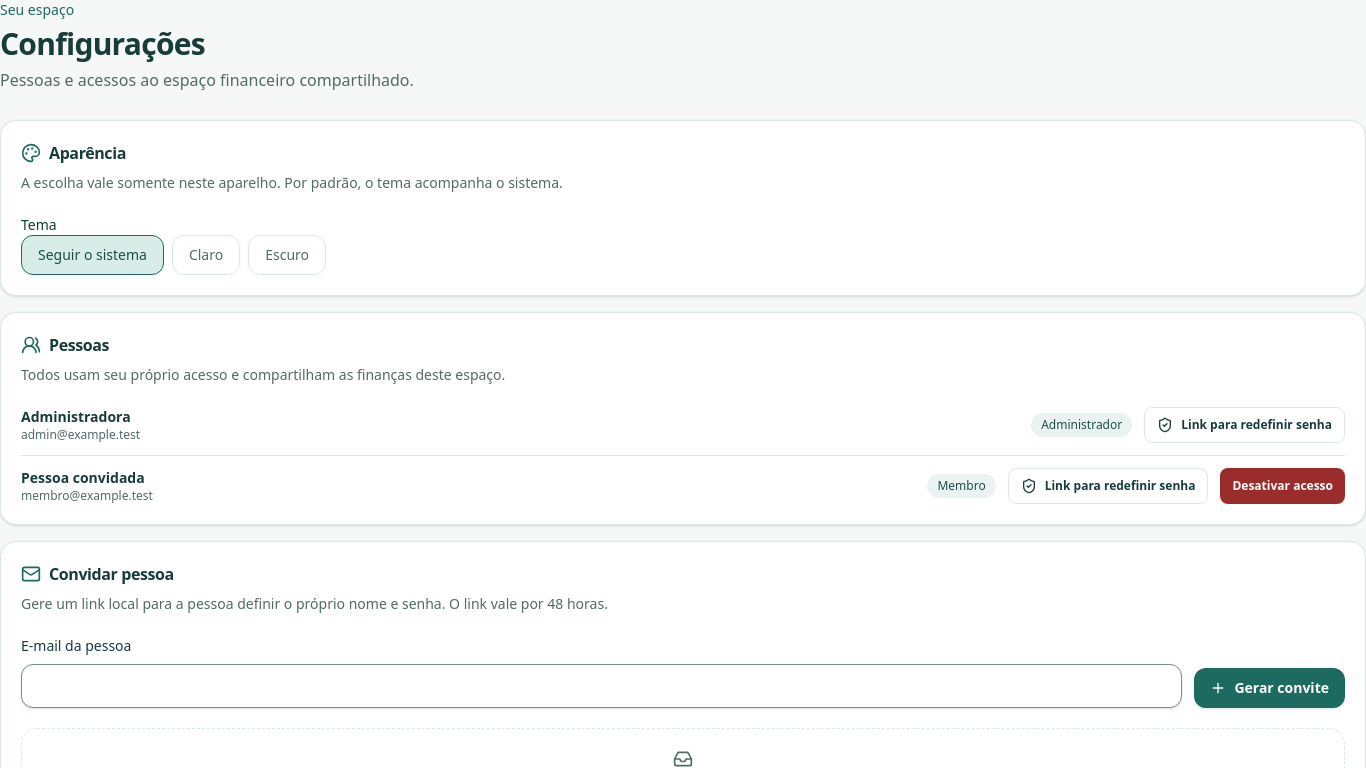
it: member settings › allows an administrator to deactivate a member after confirmation
The image size is (1366, 768).
Click the button with aria-label "Desativar acesso de Pessoa convidada". click: point(1283, 486)
box: [1220,468,1345,504]
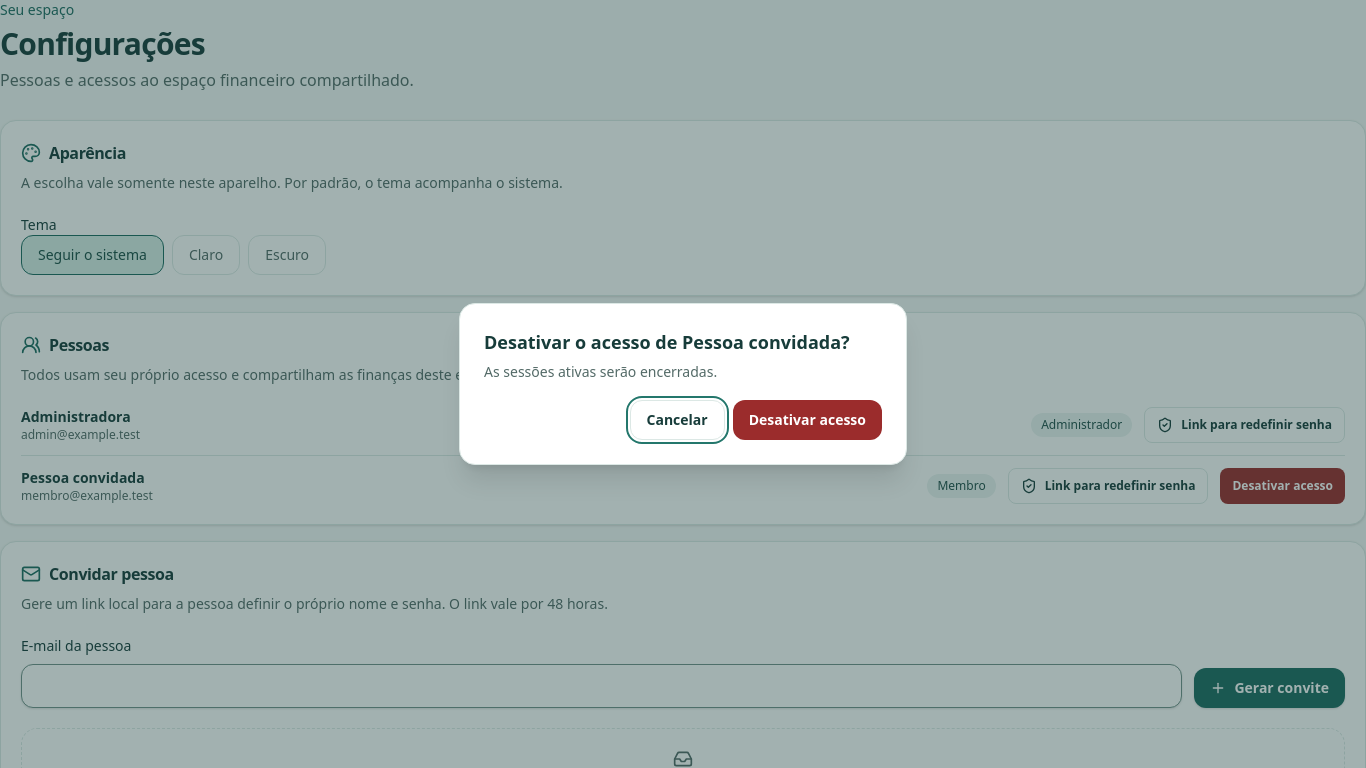
Click the button "Desativar acesso". click: point(807, 420)
box: [733,400,882,440]
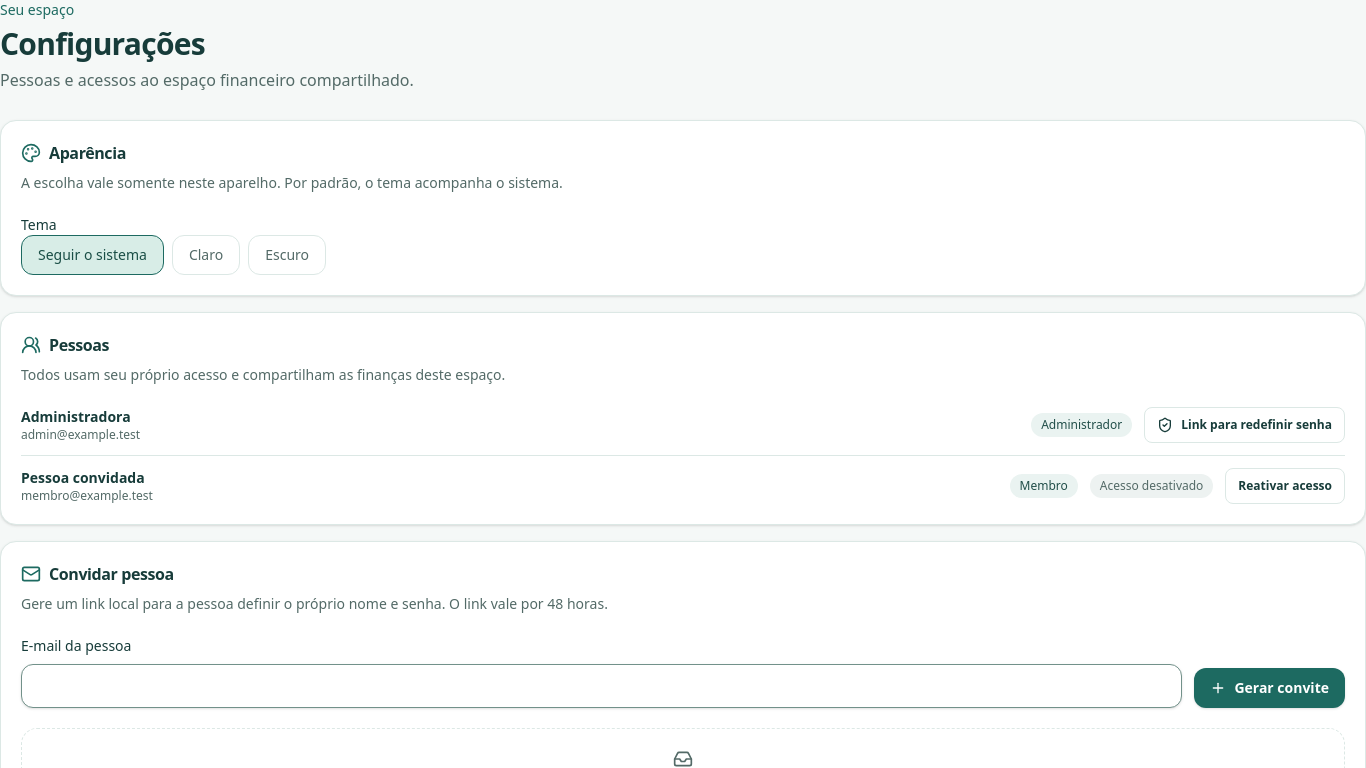
Check: the text "Acesso desativado" is shown, box [1090,474,1213,498]
Click the button with aria-label "Reativar acesso de Pessoa convidada". click: point(1285, 486)
box: [1225,468,1345,504]
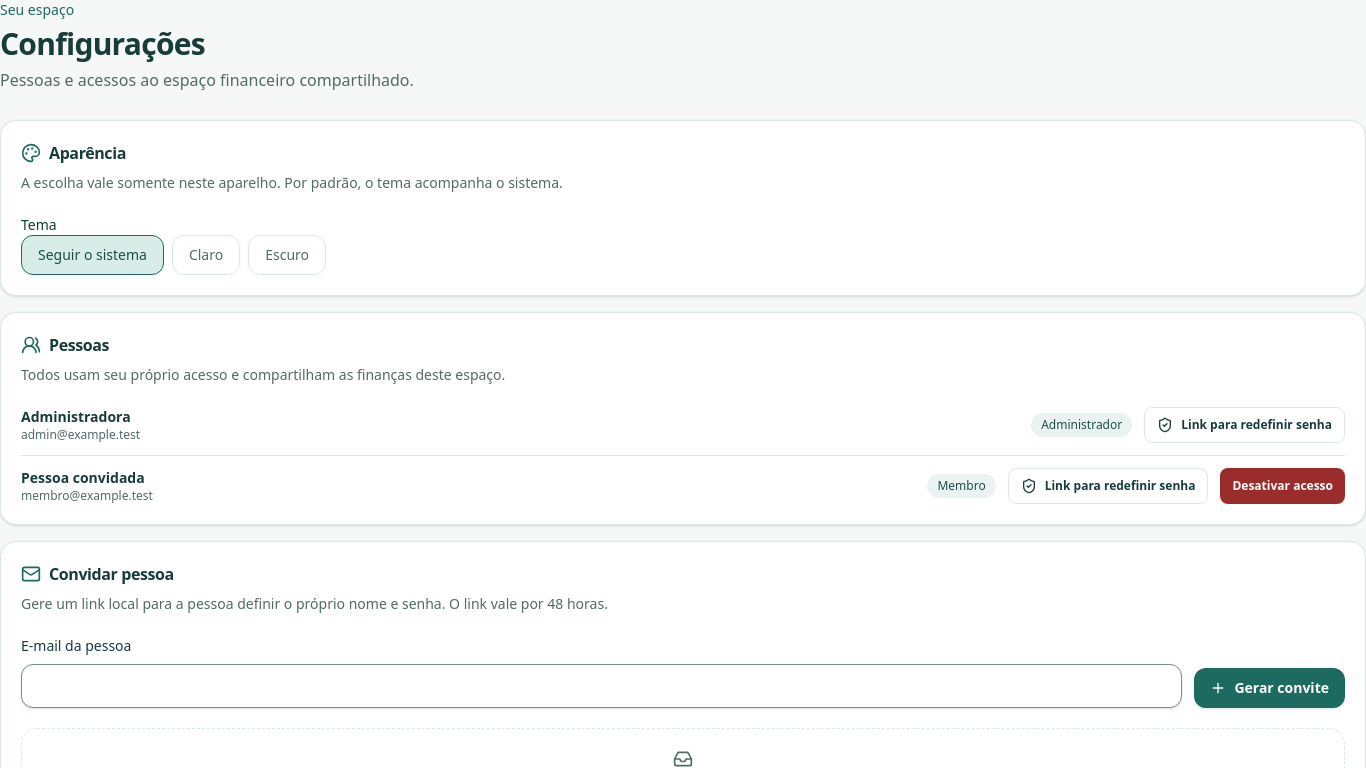
Check: the button with aria-label "Desativar acesso de Pessoa convidada" is shown, box [1220,468,1345,504]
Check: the text "Acesso desativado" is gone
